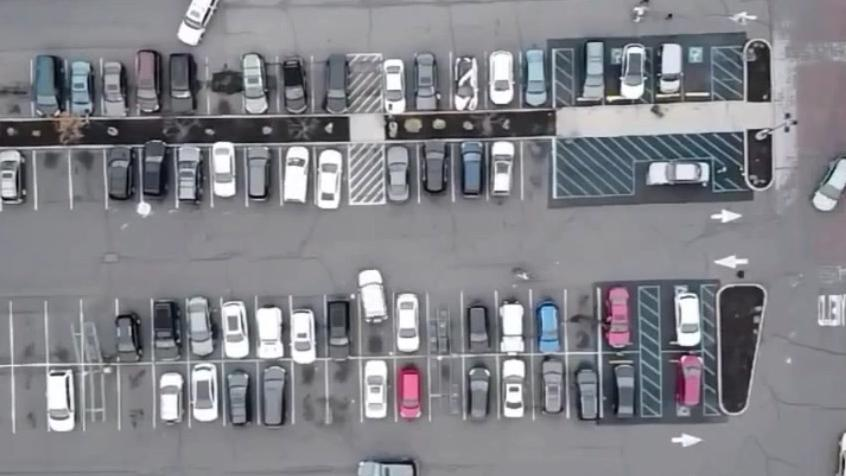car: (356, 358, 394, 425), (43, 365, 78, 435), (28, 55, 64, 120), (809, 154, 846, 216), (166, 51, 201, 116), (314, 149, 349, 214), (643, 158, 714, 190), (171, 0, 218, 46), (133, 47, 164, 116), (101, 149, 137, 208), (499, 359, 532, 423), (256, 363, 288, 429), (183, 363, 217, 425), (487, 138, 520, 201), (138, 141, 171, 204), (222, 368, 254, 431), (323, 298, 354, 363), (320, 53, 351, 117), (279, 146, 312, 206), (284, 308, 318, 366), (148, 296, 179, 359), (154, 370, 185, 433), (244, 142, 276, 203), (604, 284, 634, 349), (394, 284, 423, 349), (239, 52, 267, 119), (463, 363, 494, 423), (393, 363, 424, 423), (253, 302, 285, 360), (615, 44, 648, 100), (360, 266, 388, 332), (219, 299, 249, 360), (385, 143, 414, 205), (422, 140, 452, 199), (460, 138, 489, 199), (355, 450, 423, 476), (495, 300, 526, 357), (485, 49, 514, 109), (412, 49, 441, 109), (572, 364, 600, 426), (655, 41, 686, 97), (173, 144, 202, 203), (677, 355, 706, 414), (580, 43, 609, 101), (65, 62, 94, 120), (111, 310, 141, 366), (610, 361, 637, 423), (674, 291, 702, 350), (523, 47, 550, 108), (282, 56, 308, 119), (381, 55, 408, 115), (188, 294, 213, 358), (450, 53, 478, 110), (537, 358, 564, 417), (209, 142, 235, 203), (535, 301, 564, 354), (102, 54, 127, 115), (0, 152, 26, 210), (465, 304, 489, 357)
